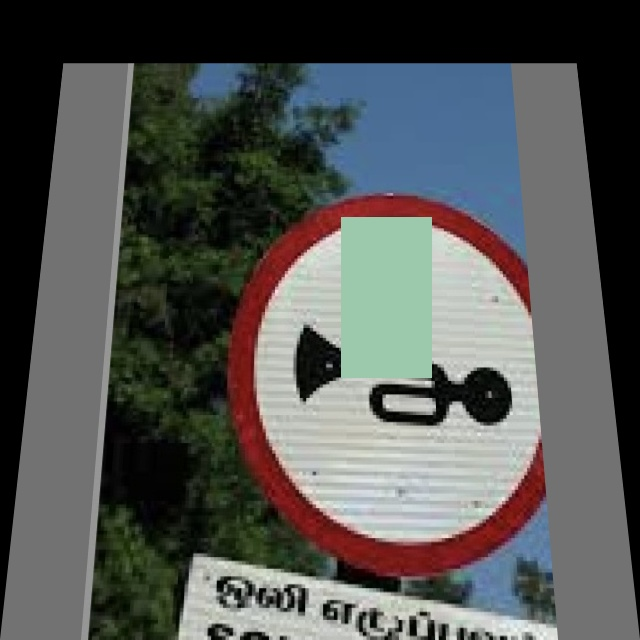Compulsory_Sound_Horn: (241, 201, 541, 525)
